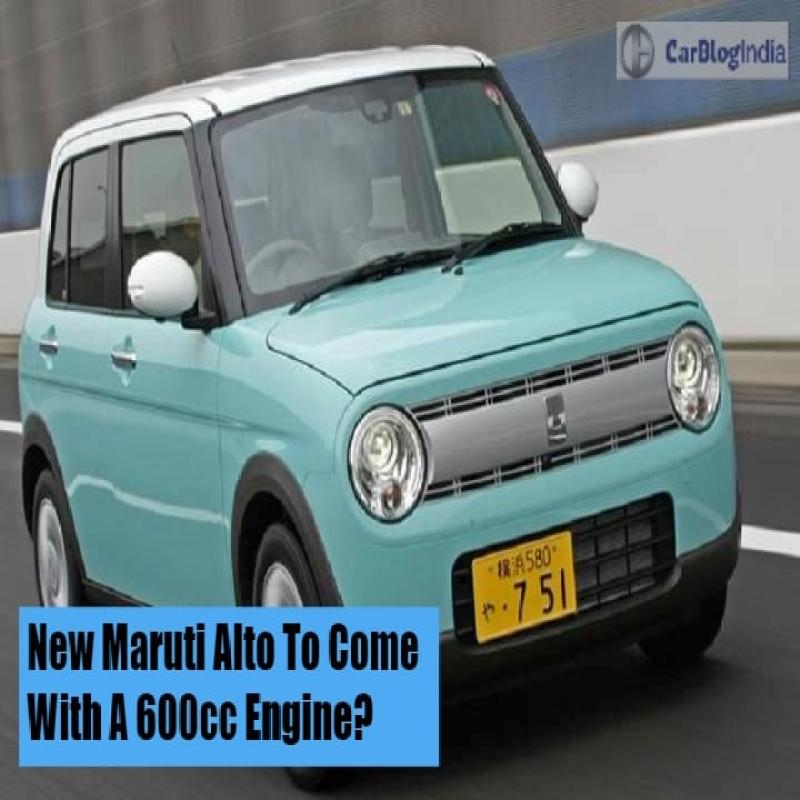car: (31, 67, 728, 778)
